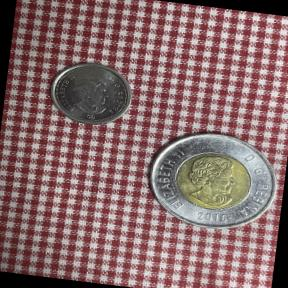coin: (136, 122, 286, 243), (42, 54, 140, 132)
